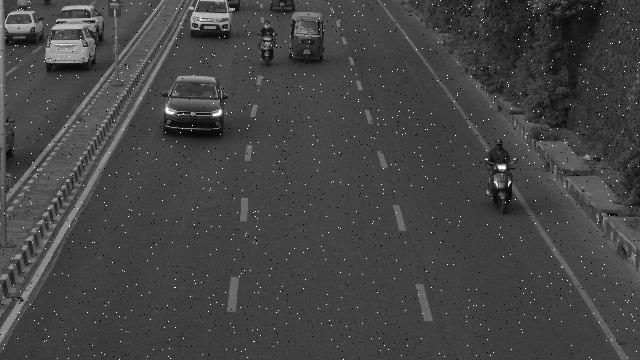Without Helmet: (495, 138, 503, 150), (264, 19, 270, 29)
